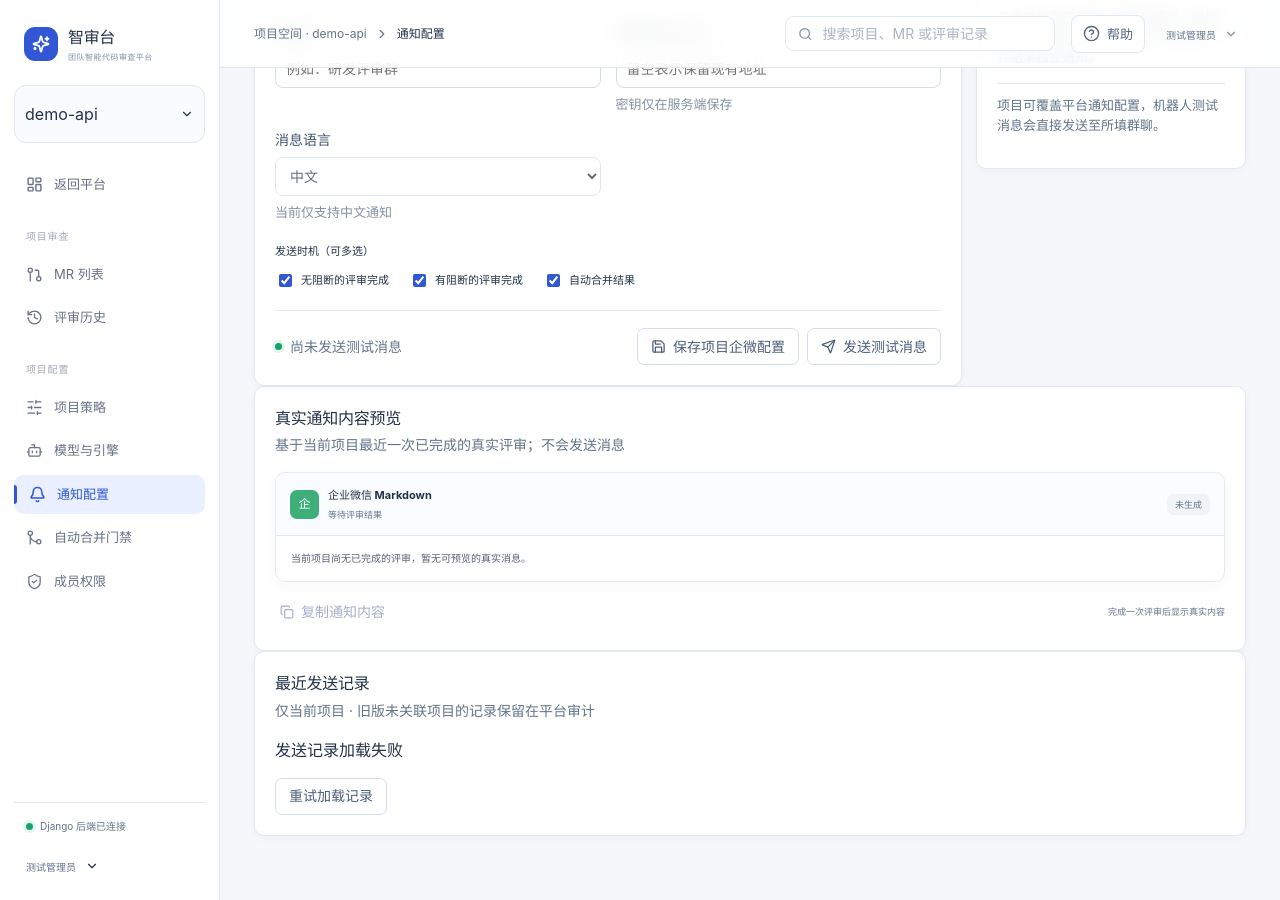
it: shows a retryable audit error without hiding the configuration form
(page scrolled)
expect the text "发送记录加载失败" is shown: met, box x1=275 y1=740 x2=403 y2=760
expect the button "保存项目企微配置" is shown: met, box x1=637 y1=328 x2=799 y2=365
Click the button "重试加载记录": (331, 796) x1=275 y1=778 x2=387 y2=815
(page scrolled)
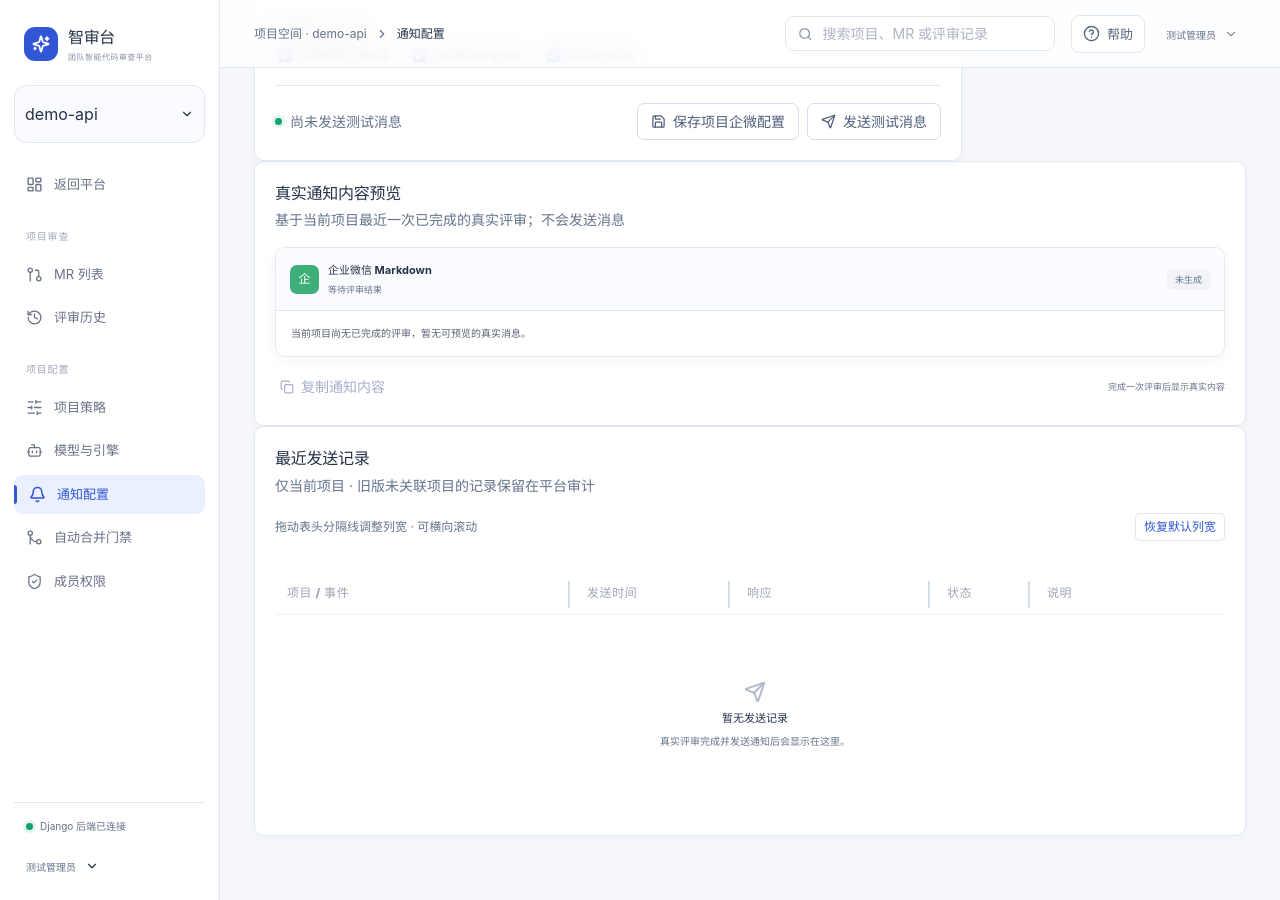
expect the text "暂无发送记录" is shown: met, box x1=722 y1=710 x2=788 y2=727
